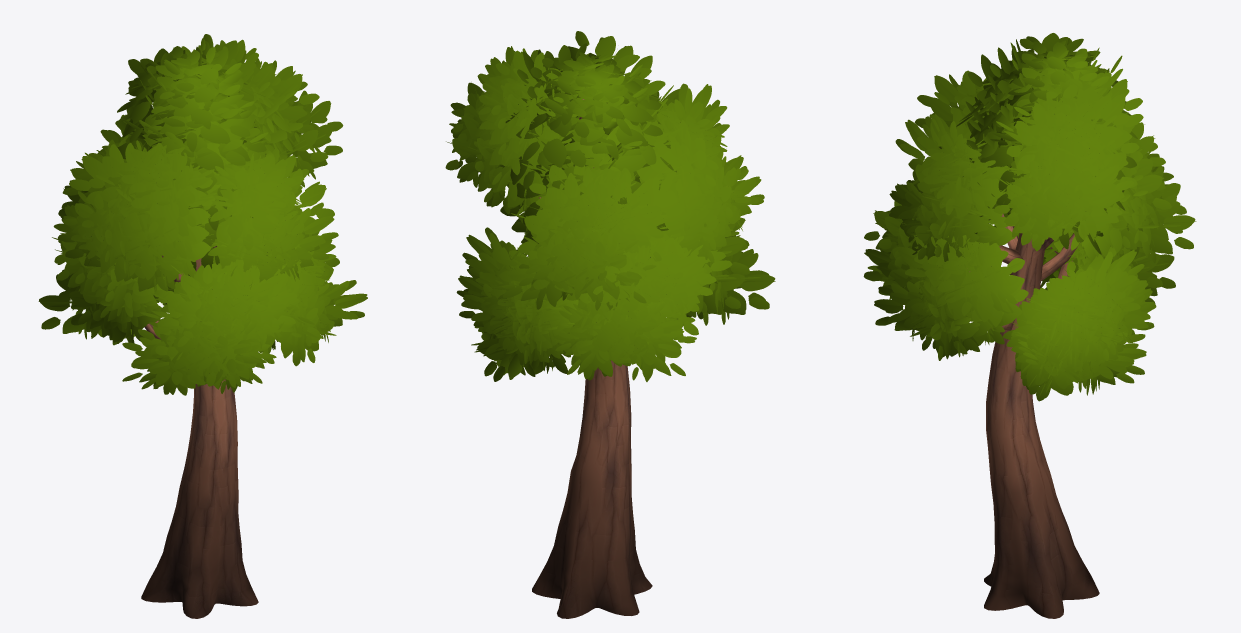
The model's file is CommonTree_1.glb.
3 views of the same model, side by side, from view 1: azimuth 30°, elevation 25°; view 2: azimuth 150°, elevation 25°; view 3: azimuth 270°, elevation 25° (orthographic). The views are drawn at different scales.
Visible parts, largest first — view 1: CommonTree_1; view 2: CommonTree_1; view 3: CommonTree_1.
Boxes of the visible parts, x1,y1,x2,y2 form: CommonTree_1: (38,34,367,618); CommonTree_1: (445,31,775,618); CommonTree_1: (863,33,1196,618).
Bounding box in the file's own units: 4.31 × 7.26 × 4.58.
Materials: 2 (2 with a texture image).
